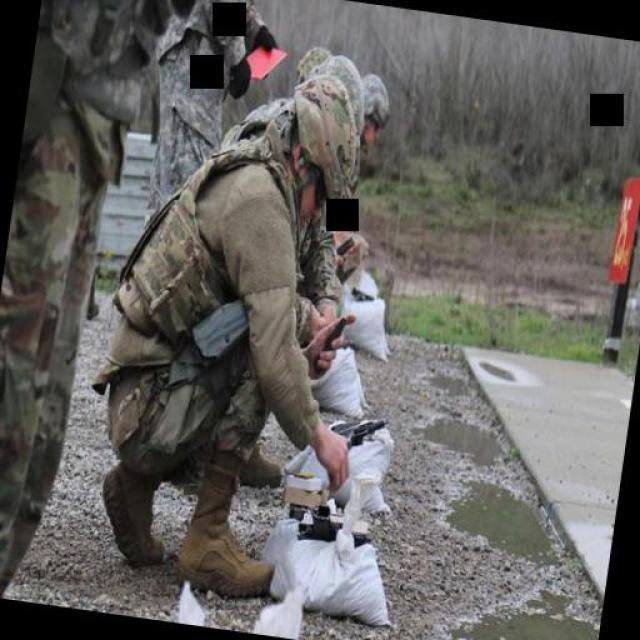gun: (328, 402, 392, 458)
